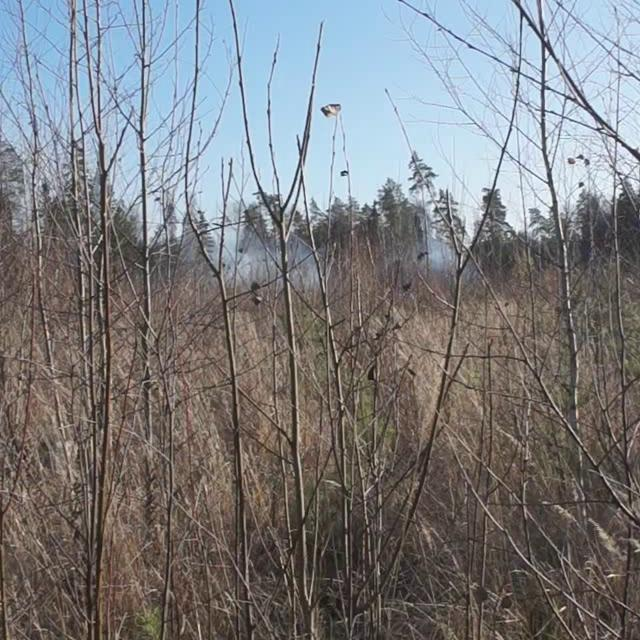Smoke: (192, 211, 330, 293), (413, 212, 472, 279)
